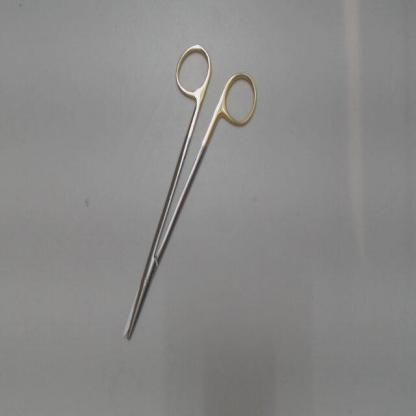7 Metzenbaum Scissors: (117, 38, 262, 350)
